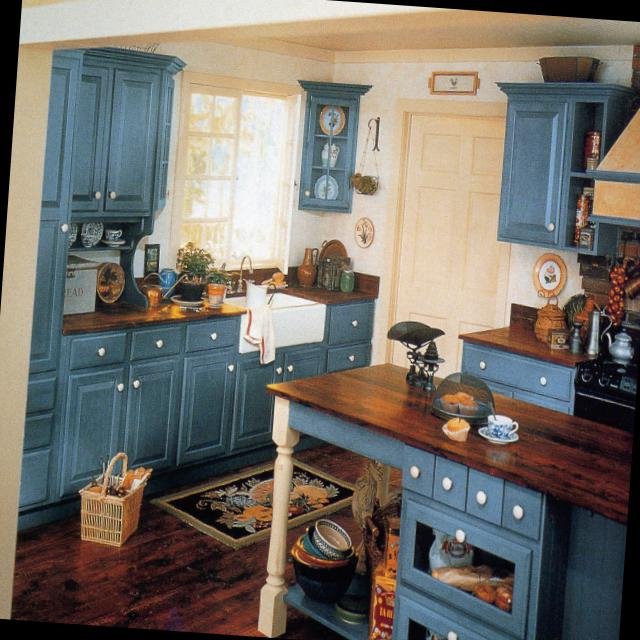2001: (166, 72, 296, 276)
basket crop: (78, 448, 151, 546)
cup and saucer: (486, 414, 517, 438)
cupboard crop: (72, 65, 158, 217)
door bars: (397, 113, 501, 359)
stove burner: (578, 350, 636, 381)
table: (268, 358, 630, 511)
